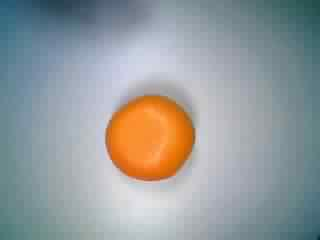orange: (102, 91, 197, 185)
